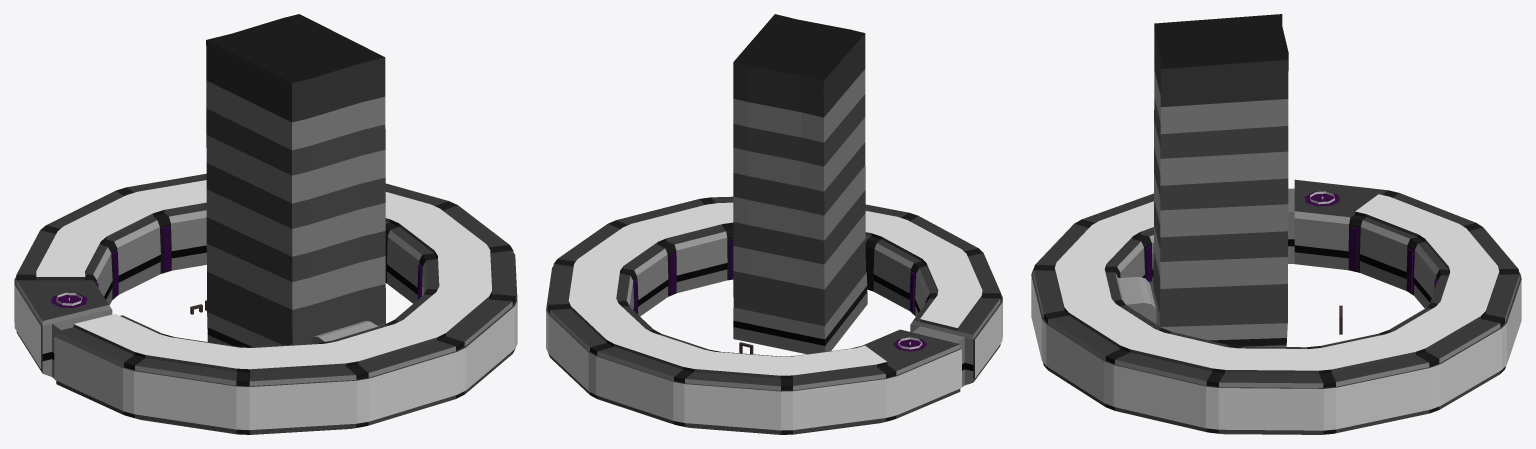
The model's file is mainScene.glb.
3 renders of one model, left to right at view 1: azimuth 30°, elevation 25°; view 2: azimuth 150°, elevation 25°; view 3: azimuth 270°, elevation 25°, orthographic. The views are drawn at different scales.
Visible parts, largest first — view 1: body; view 2: body; view 3: body.
Boxes of the visible parts, left/top/right/bottom form: body: left=14, top=14, right=517, bottom=434; body: left=546, top=14, right=1002, bottom=434; body: left=1031, top=14, right=1521, bottom=434.
Size of the model in its own units: 80.62 by 54.53 by 81.29.
4 materials, 1 textured.
